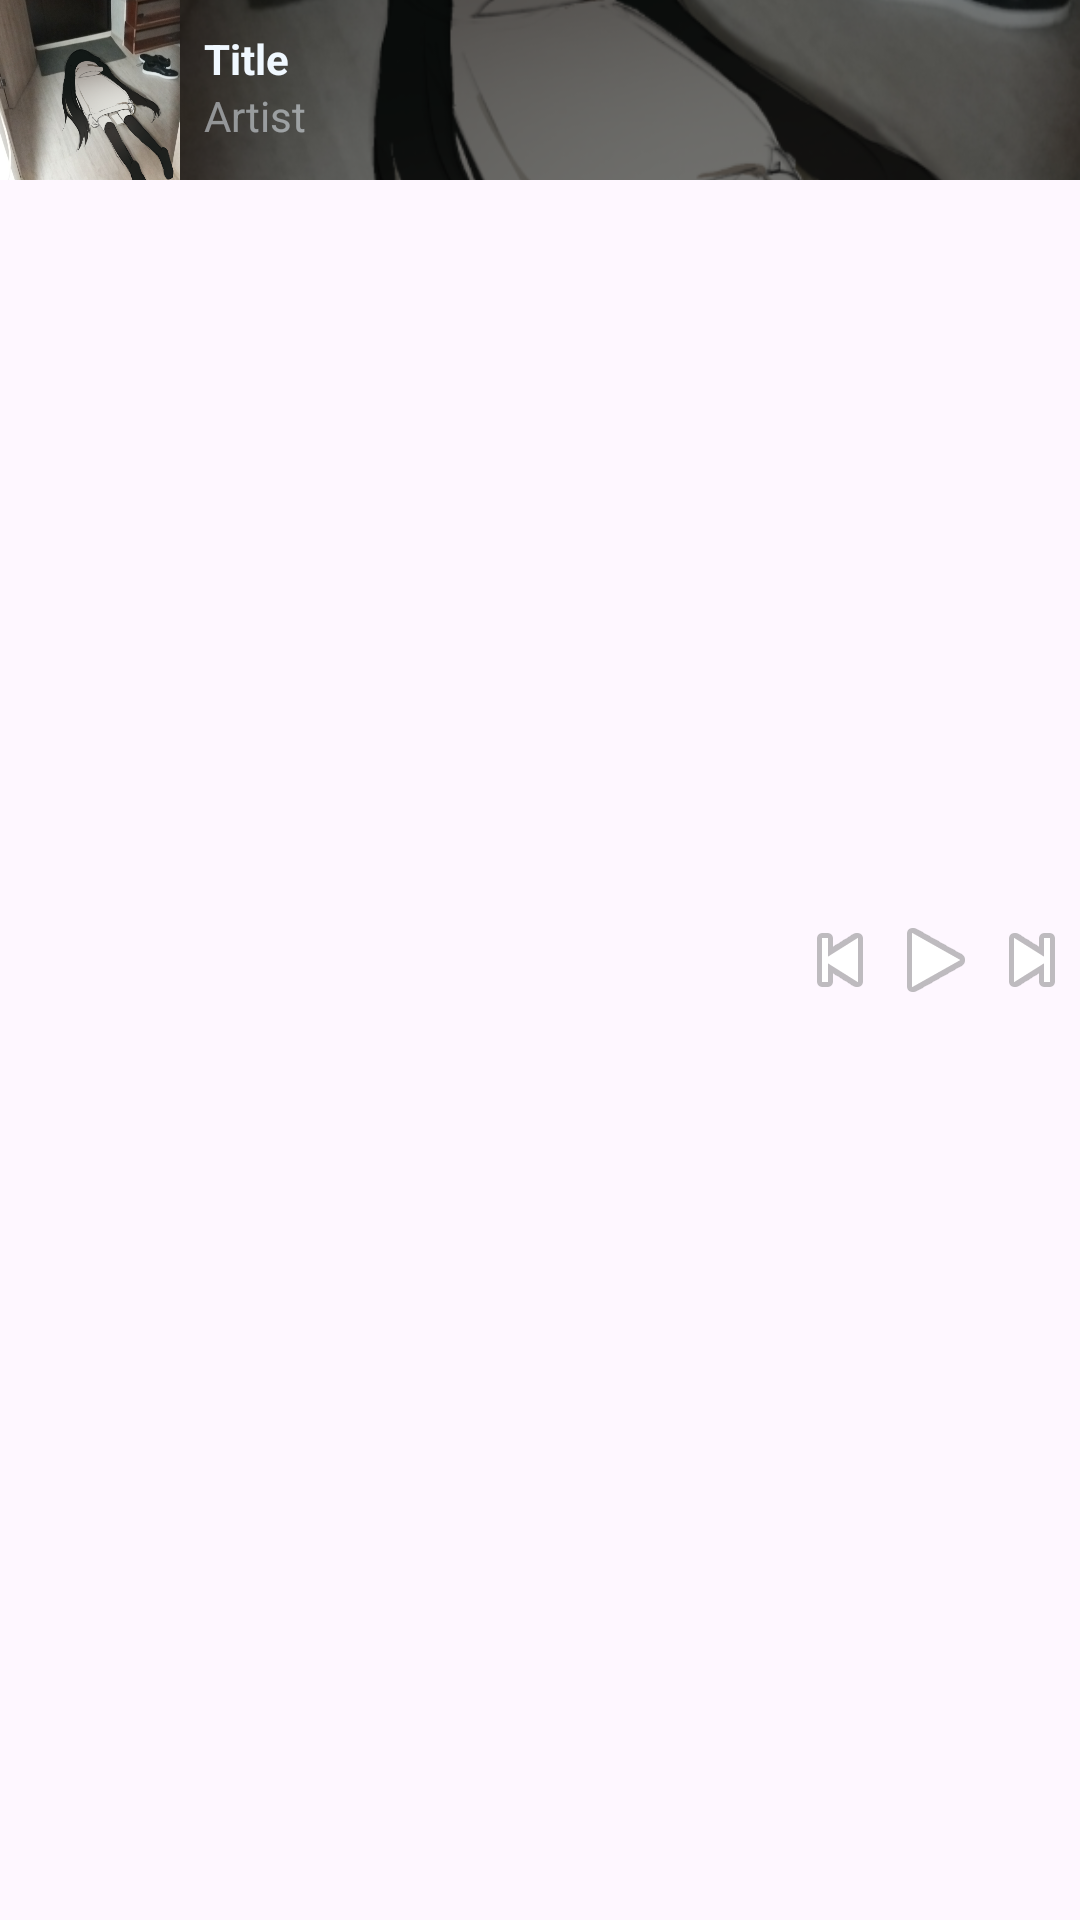

Named icons in this screenshot (1080 x 1920) and their centers, point (x, y):
next: point (1032, 960)
play: point (936, 960)
previous: point (840, 960)
